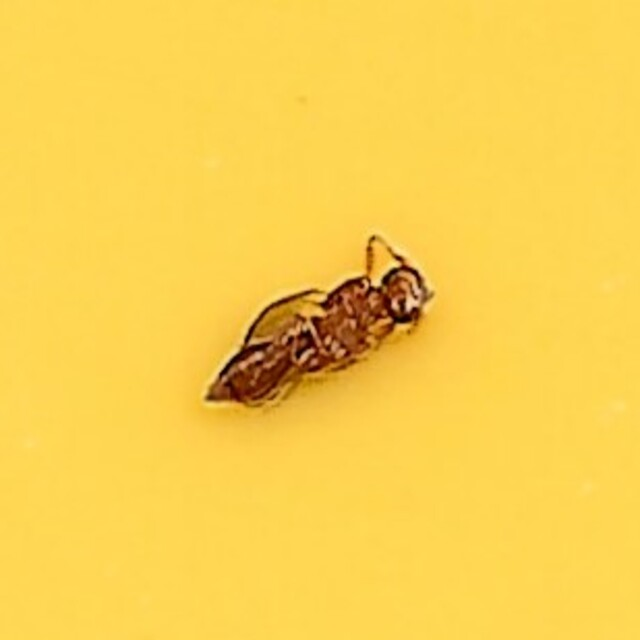Hymenoptera: (207, 233, 433, 407)
